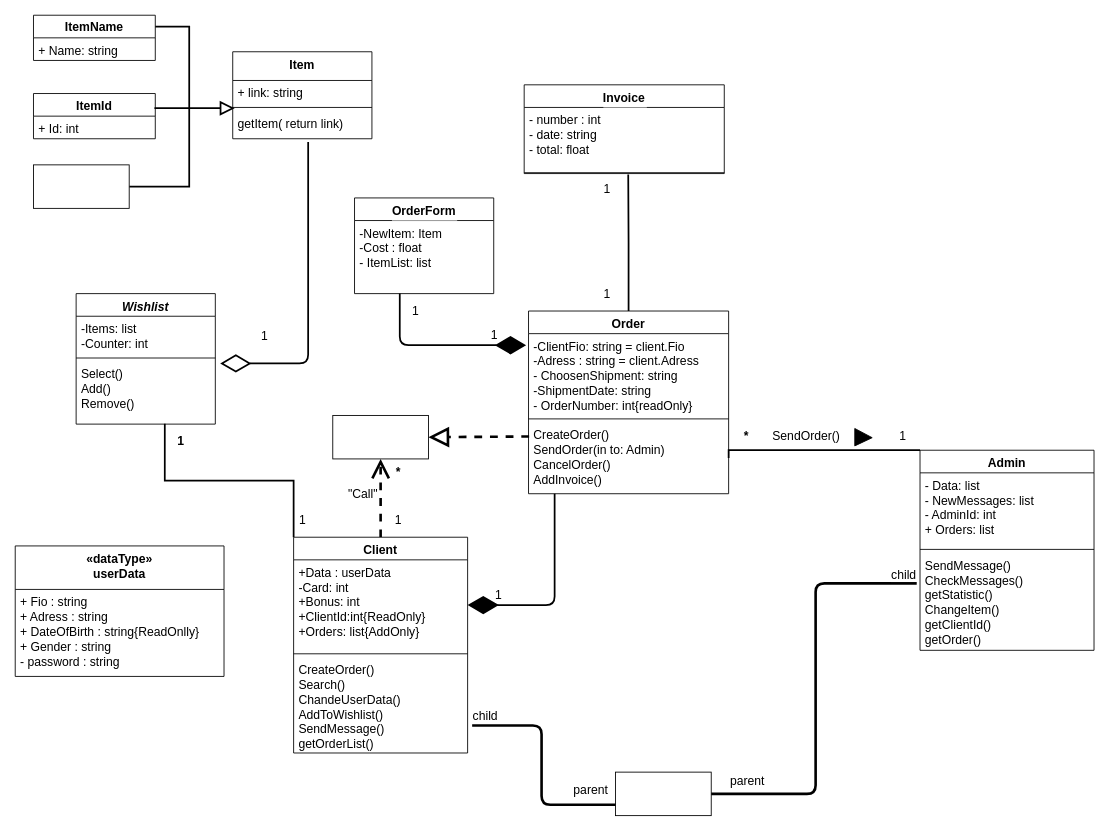
Image size: 1109x831. Some labels were removed from this diagram. Here are the shapes that lost their labels. From the top down, the centre of each, then its label:
At pixel 81 186: "ItemCategory".
At pixel 380 437: "«interface» CreateOrder".
At pixel 663 793: "Person".
